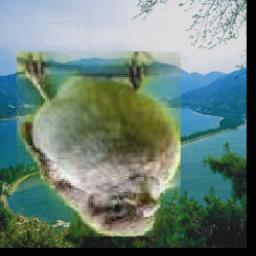Sparrow: (18, 51, 182, 236)
